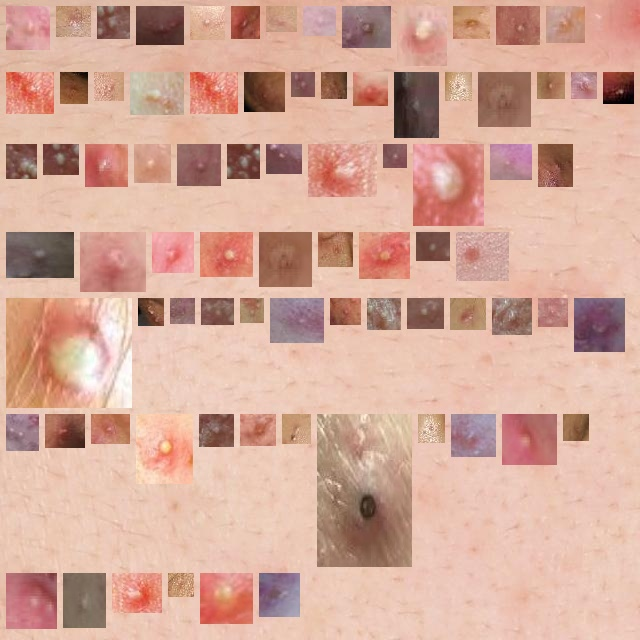pustule: (325, 422, 404, 559), (14, 306, 124, 400), (421, 152, 476, 218), (144, 422, 185, 476), (88, 240, 138, 284), (316, 152, 369, 189), (14, 240, 66, 270), (405, 14, 439, 58), (402, 80, 431, 130), (486, 80, 523, 119), (267, 240, 304, 279), (14, 581, 49, 621), (510, 422, 549, 457), (582, 306, 617, 344), (208, 581, 245, 616), (464, 240, 501, 273), (278, 306, 316, 335), (367, 240, 402, 271), (208, 240, 245, 269), (71, 581, 98, 620), (138, 80, 176, 107), (350, 14, 383, 40), (14, 80, 46, 106), (198, 80, 230, 106), (120, 581, 154, 605), (14, 14, 42, 42), (459, 422, 488, 449), (144, 14, 176, 38), (93, 152, 120, 179), (185, 152, 213, 178), (267, 581, 292, 609), (160, 240, 186, 265), (504, 14, 532, 37), (252, 80, 277, 104), (498, 152, 524, 172), (546, 152, 565, 179), (500, 306, 524, 327), (554, 14, 577, 35), (142, 152, 163, 175), (53, 422, 77, 440), (326, 240, 345, 259), (461, 14, 482, 31), (14, 422, 31, 443), (198, 14, 217, 32), (361, 80, 380, 98), (235, 152, 252, 171), (207, 422, 226, 439), (99, 422, 122, 436), (458, 306, 478, 322), (248, 422, 268, 438), (415, 306, 436, 321), (51, 152, 71, 167), (105, 14, 122, 31), (375, 306, 393, 322), (64, 14, 83, 29), (14, 152, 29, 171), (274, 152, 294, 166), (611, 80, 626, 96), (311, 14, 328, 28), (424, 240, 442, 253), (239, 14, 252, 31), (274, 14, 289, 28), (68, 80, 80, 96), (209, 306, 226, 317), (102, 80, 116, 93), (546, 306, 560, 319), (290, 422, 303, 436), (338, 306, 353, 317), (453, 80, 464, 93), (426, 422, 437, 435), (545, 80, 557, 91), (146, 306, 156, 318), (329, 80, 339, 91), (579, 80, 589, 91), (571, 422, 581, 433), (178, 306, 187, 316), (176, 581, 186, 589), (299, 80, 307, 89), (248, 306, 256, 315), (391, 152, 399, 160)
